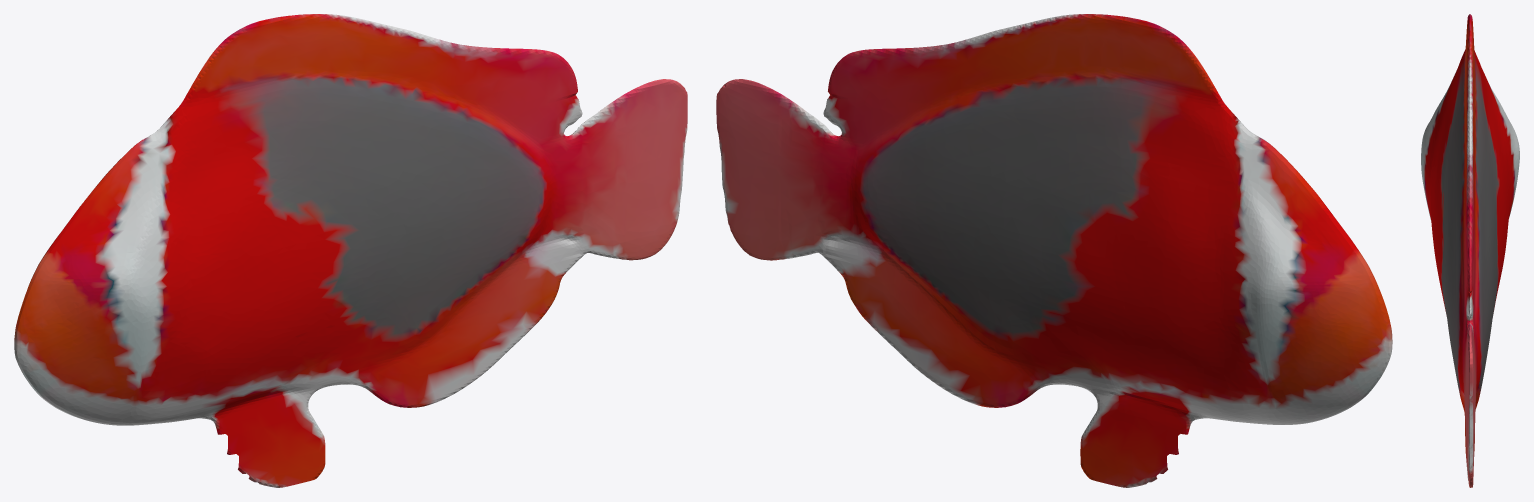
File: fish_6.glb
3 views of the same model, side by side, from view 1: azimuth 30°, elevation 25°; view 2: azimuth 150°, elevation 25°; view 3: azimuth 270°, elevation 25° (orthographic). The views are drawn at different scales.
Parts seen in each view (by area): view 1: geometry_0; view 2: geometry_0; view 3: geometry_0.
Part boxes in pixels (x1,y1,x2,y2): geometry_0: [14, 14, 687, 487]; geometry_0: [716, 14, 1392, 487]; geometry_0: [1421, 14, 1519, 487].
Bounding box in the file's own units: 0.8417 × 0.5625 × 0.1197.
